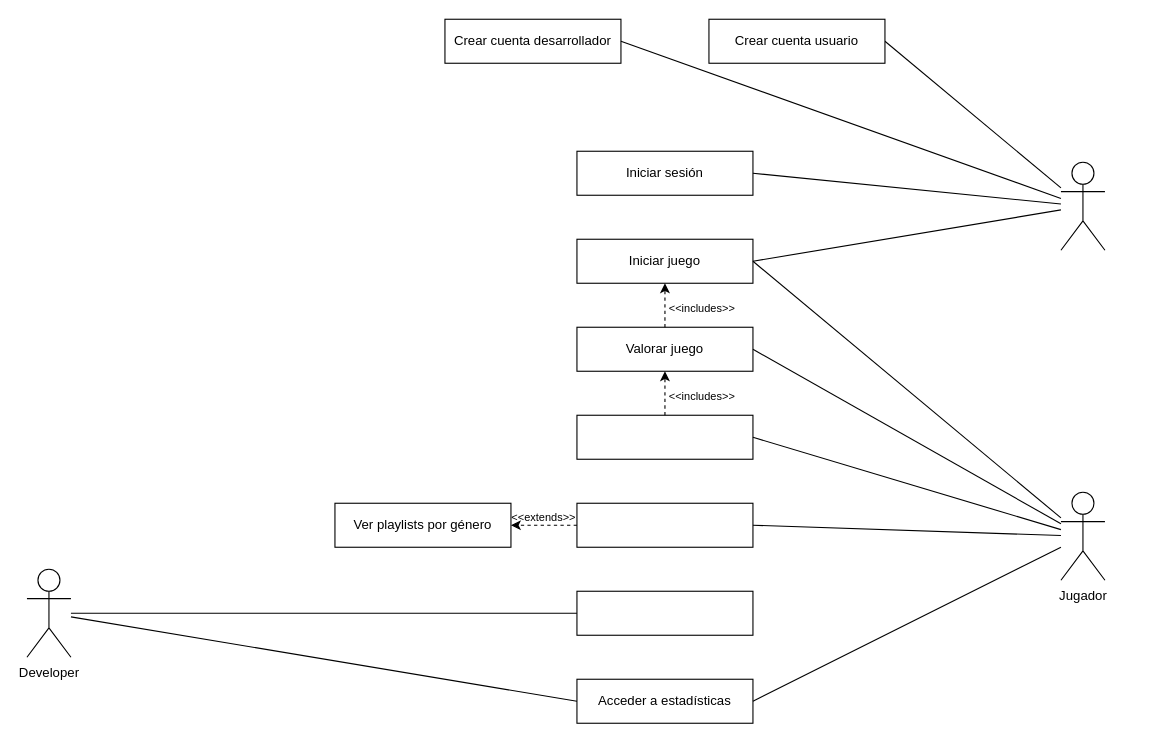
Image size: 1150x743. Some labels were removed from this diagram. The centre of each missing label's shape, as x and y in pixels:
"Añadir comentario para desarrollador" belongs at [664,436].
"Dar de alta juego" belongs at [664,612].
"Filtrar por género de juego" belongs at [664,524].
"Invitado/Usuario" belongs at [1082,205].
